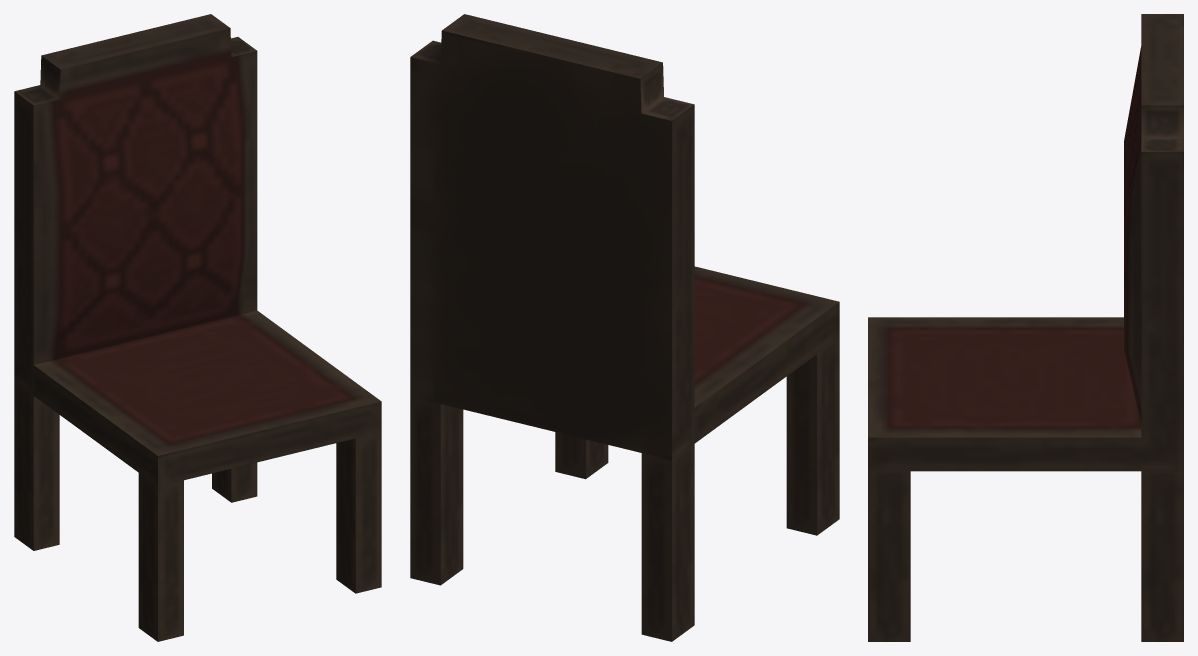
The model's file is Office_chair.fbx.
3 views of the same model, side by side, from view 1: azimuth 30°, elevation 25°; view 2: azimuth 150°, elevation 25°; view 3: azimuth 270°, elevation 25° (orthographic). The views are drawn at different scales.
Visible parts, largest first — view 1: pCube16; view 2: pCube16; view 3: pCube16.
Part boxes in pixels (x1=…): pCube16: x1=14, y1=14, x2=381, y2=641; pCube16: x1=410, y1=14, x2=839, y2=641; pCube16: x1=868, y1=14, x2=1183, y2=641.
Size of the model in its own units: 275 by 557 by 305.
